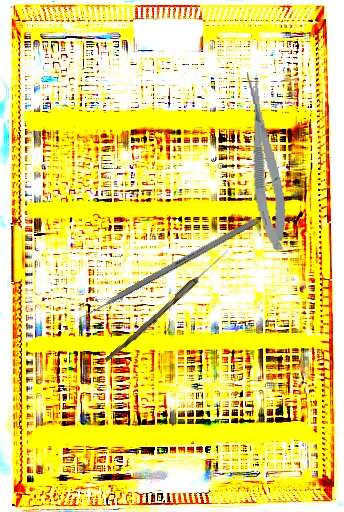Micro Scissor: (239, 69, 292, 253)
Pusher: (67, 217, 258, 328)
Surgical Spoon: (104, 246, 231, 366)
